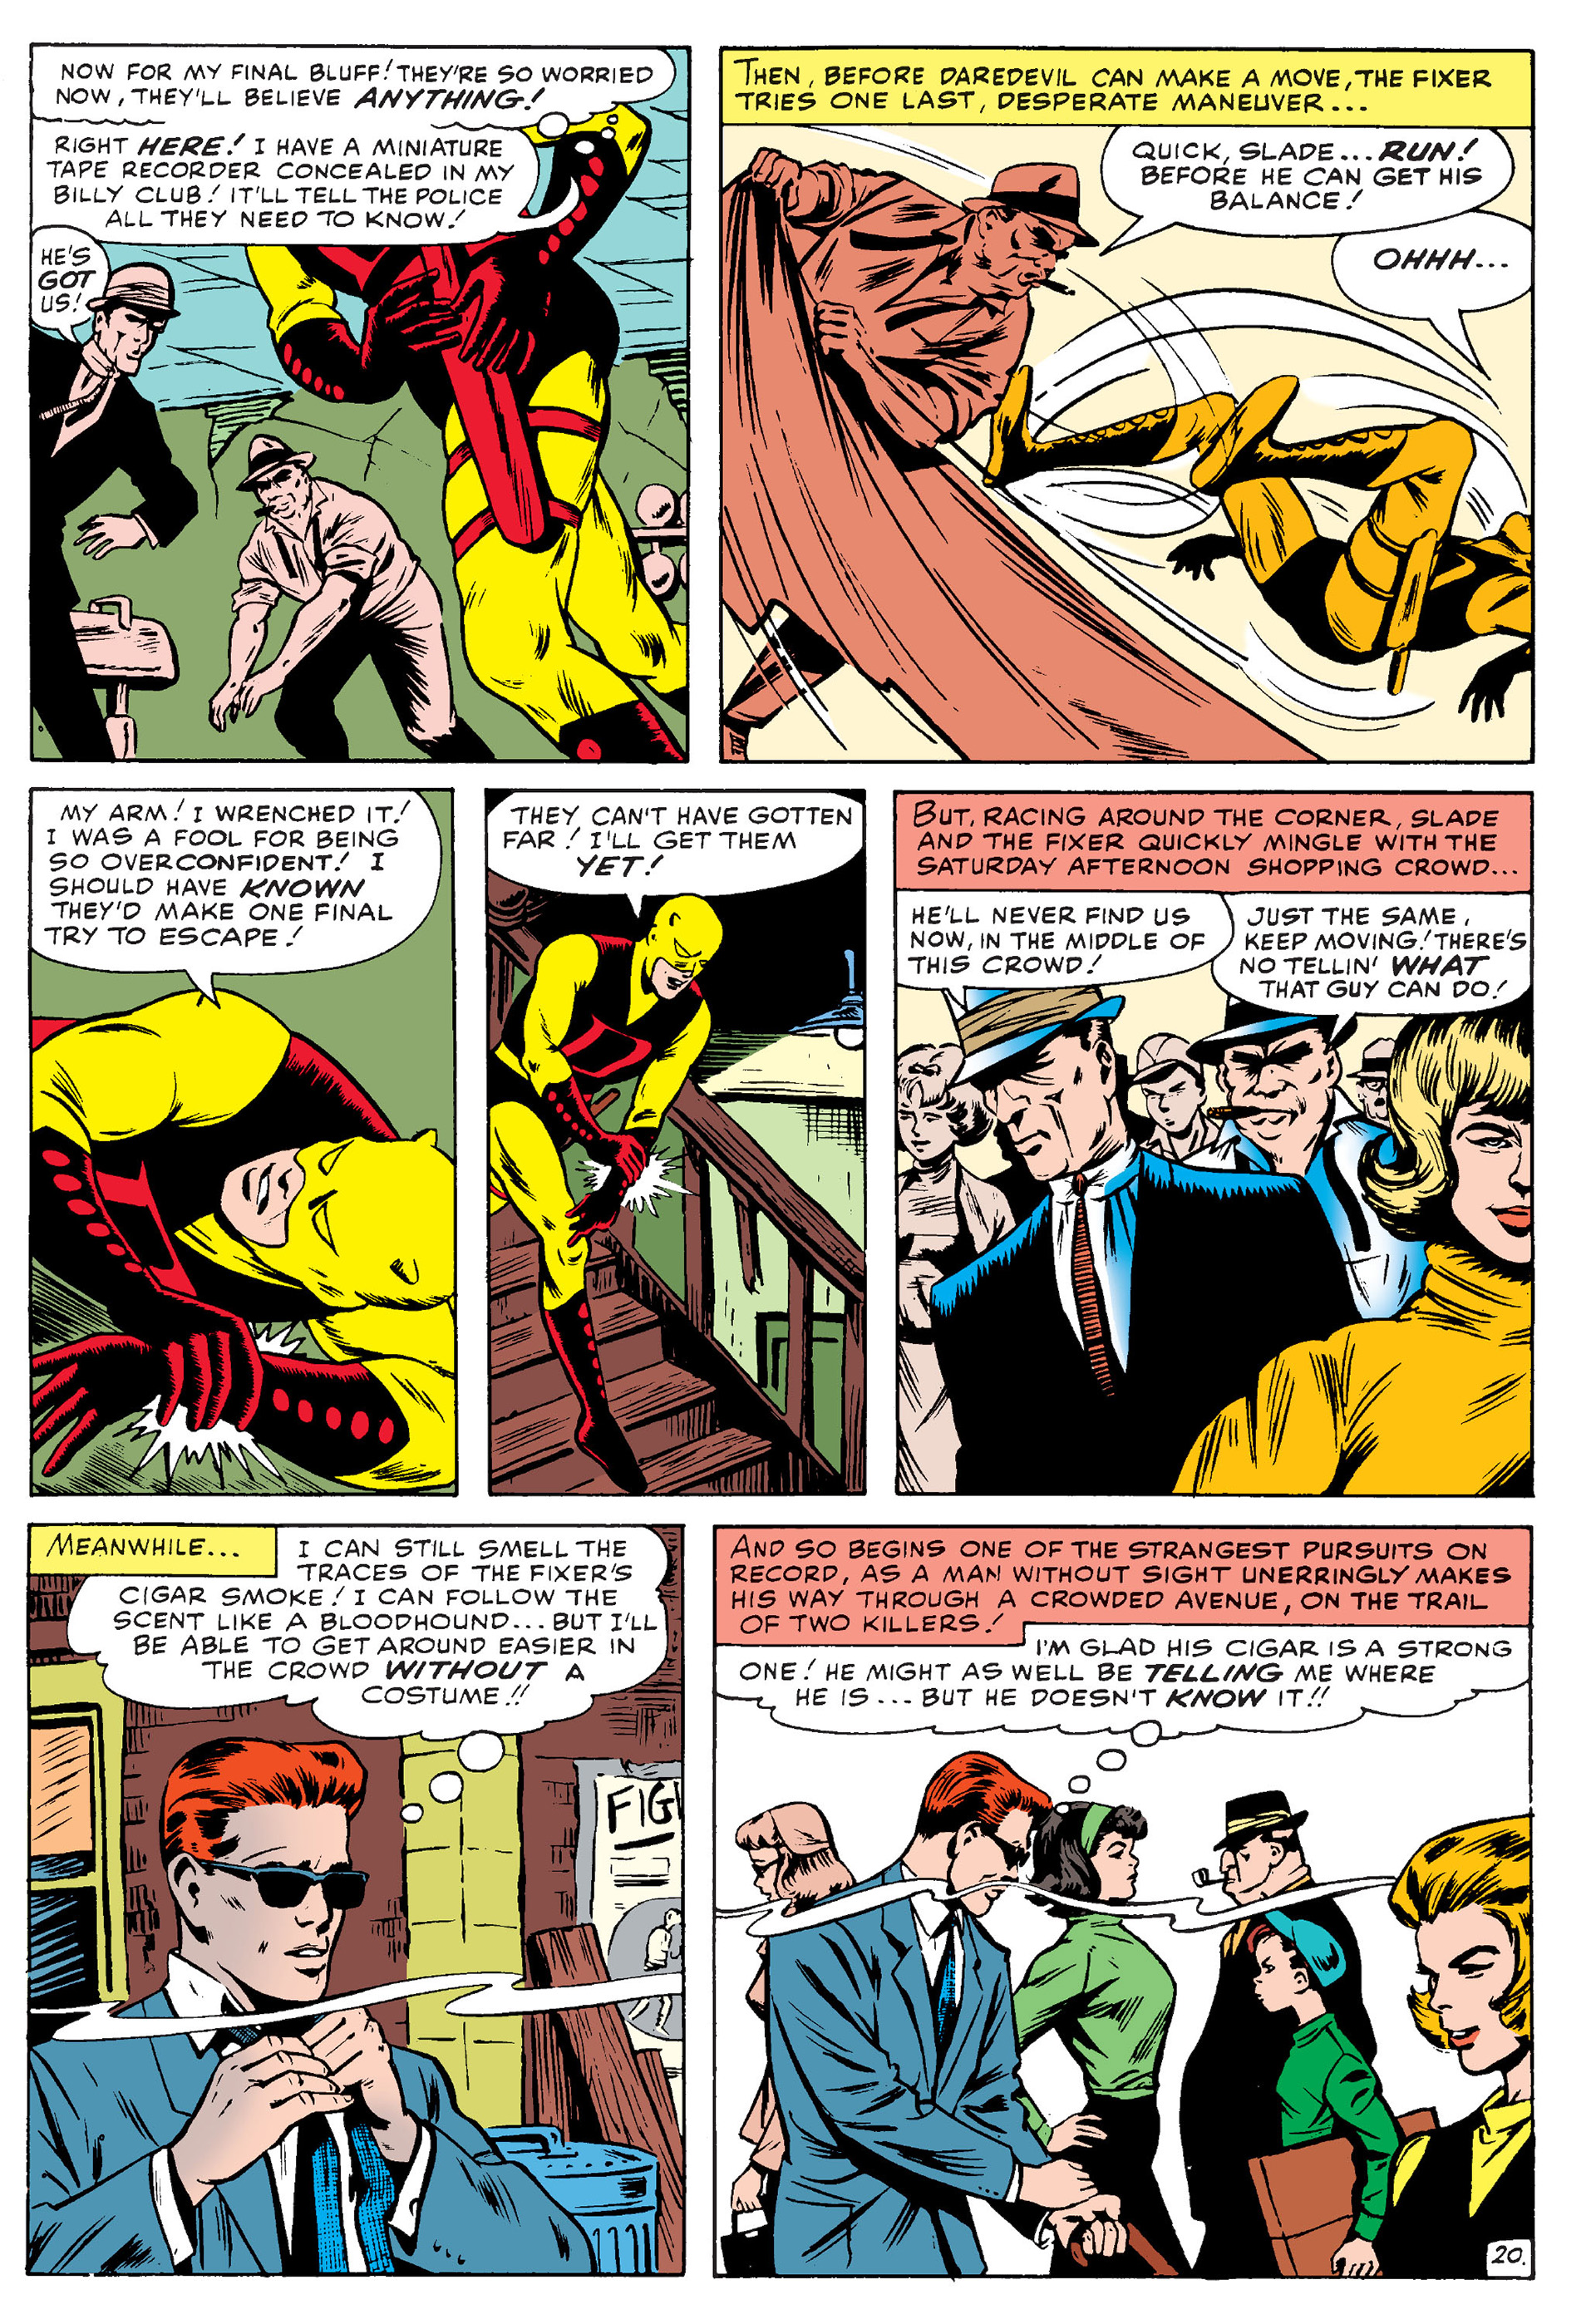Baloon: (72, 1526, 669, 1747), (704, 1519, 1536, 1646), (720, 1628, 1529, 1750), (26, 782, 438, 998), (26, 127, 586, 251), (720, 48, 1529, 127), (897, 793, 1532, 890), (34, 41, 662, 127), (477, 786, 856, 911), (1098, 127, 1515, 240), (1222, 897, 1532, 1024), (900, 897, 1229, 994), (1338, 212, 1540, 369), (34, 1533, 282, 1573), (41, 233, 101, 351)
Vignetta: (715, 1531, 1529, 2278), (720, 48, 1536, 765), (26, 1522, 687, 2271), (37, 44, 690, 752), (897, 800, 1540, 1490), (34, 786, 452, 1490), (493, 789, 869, 1498)
